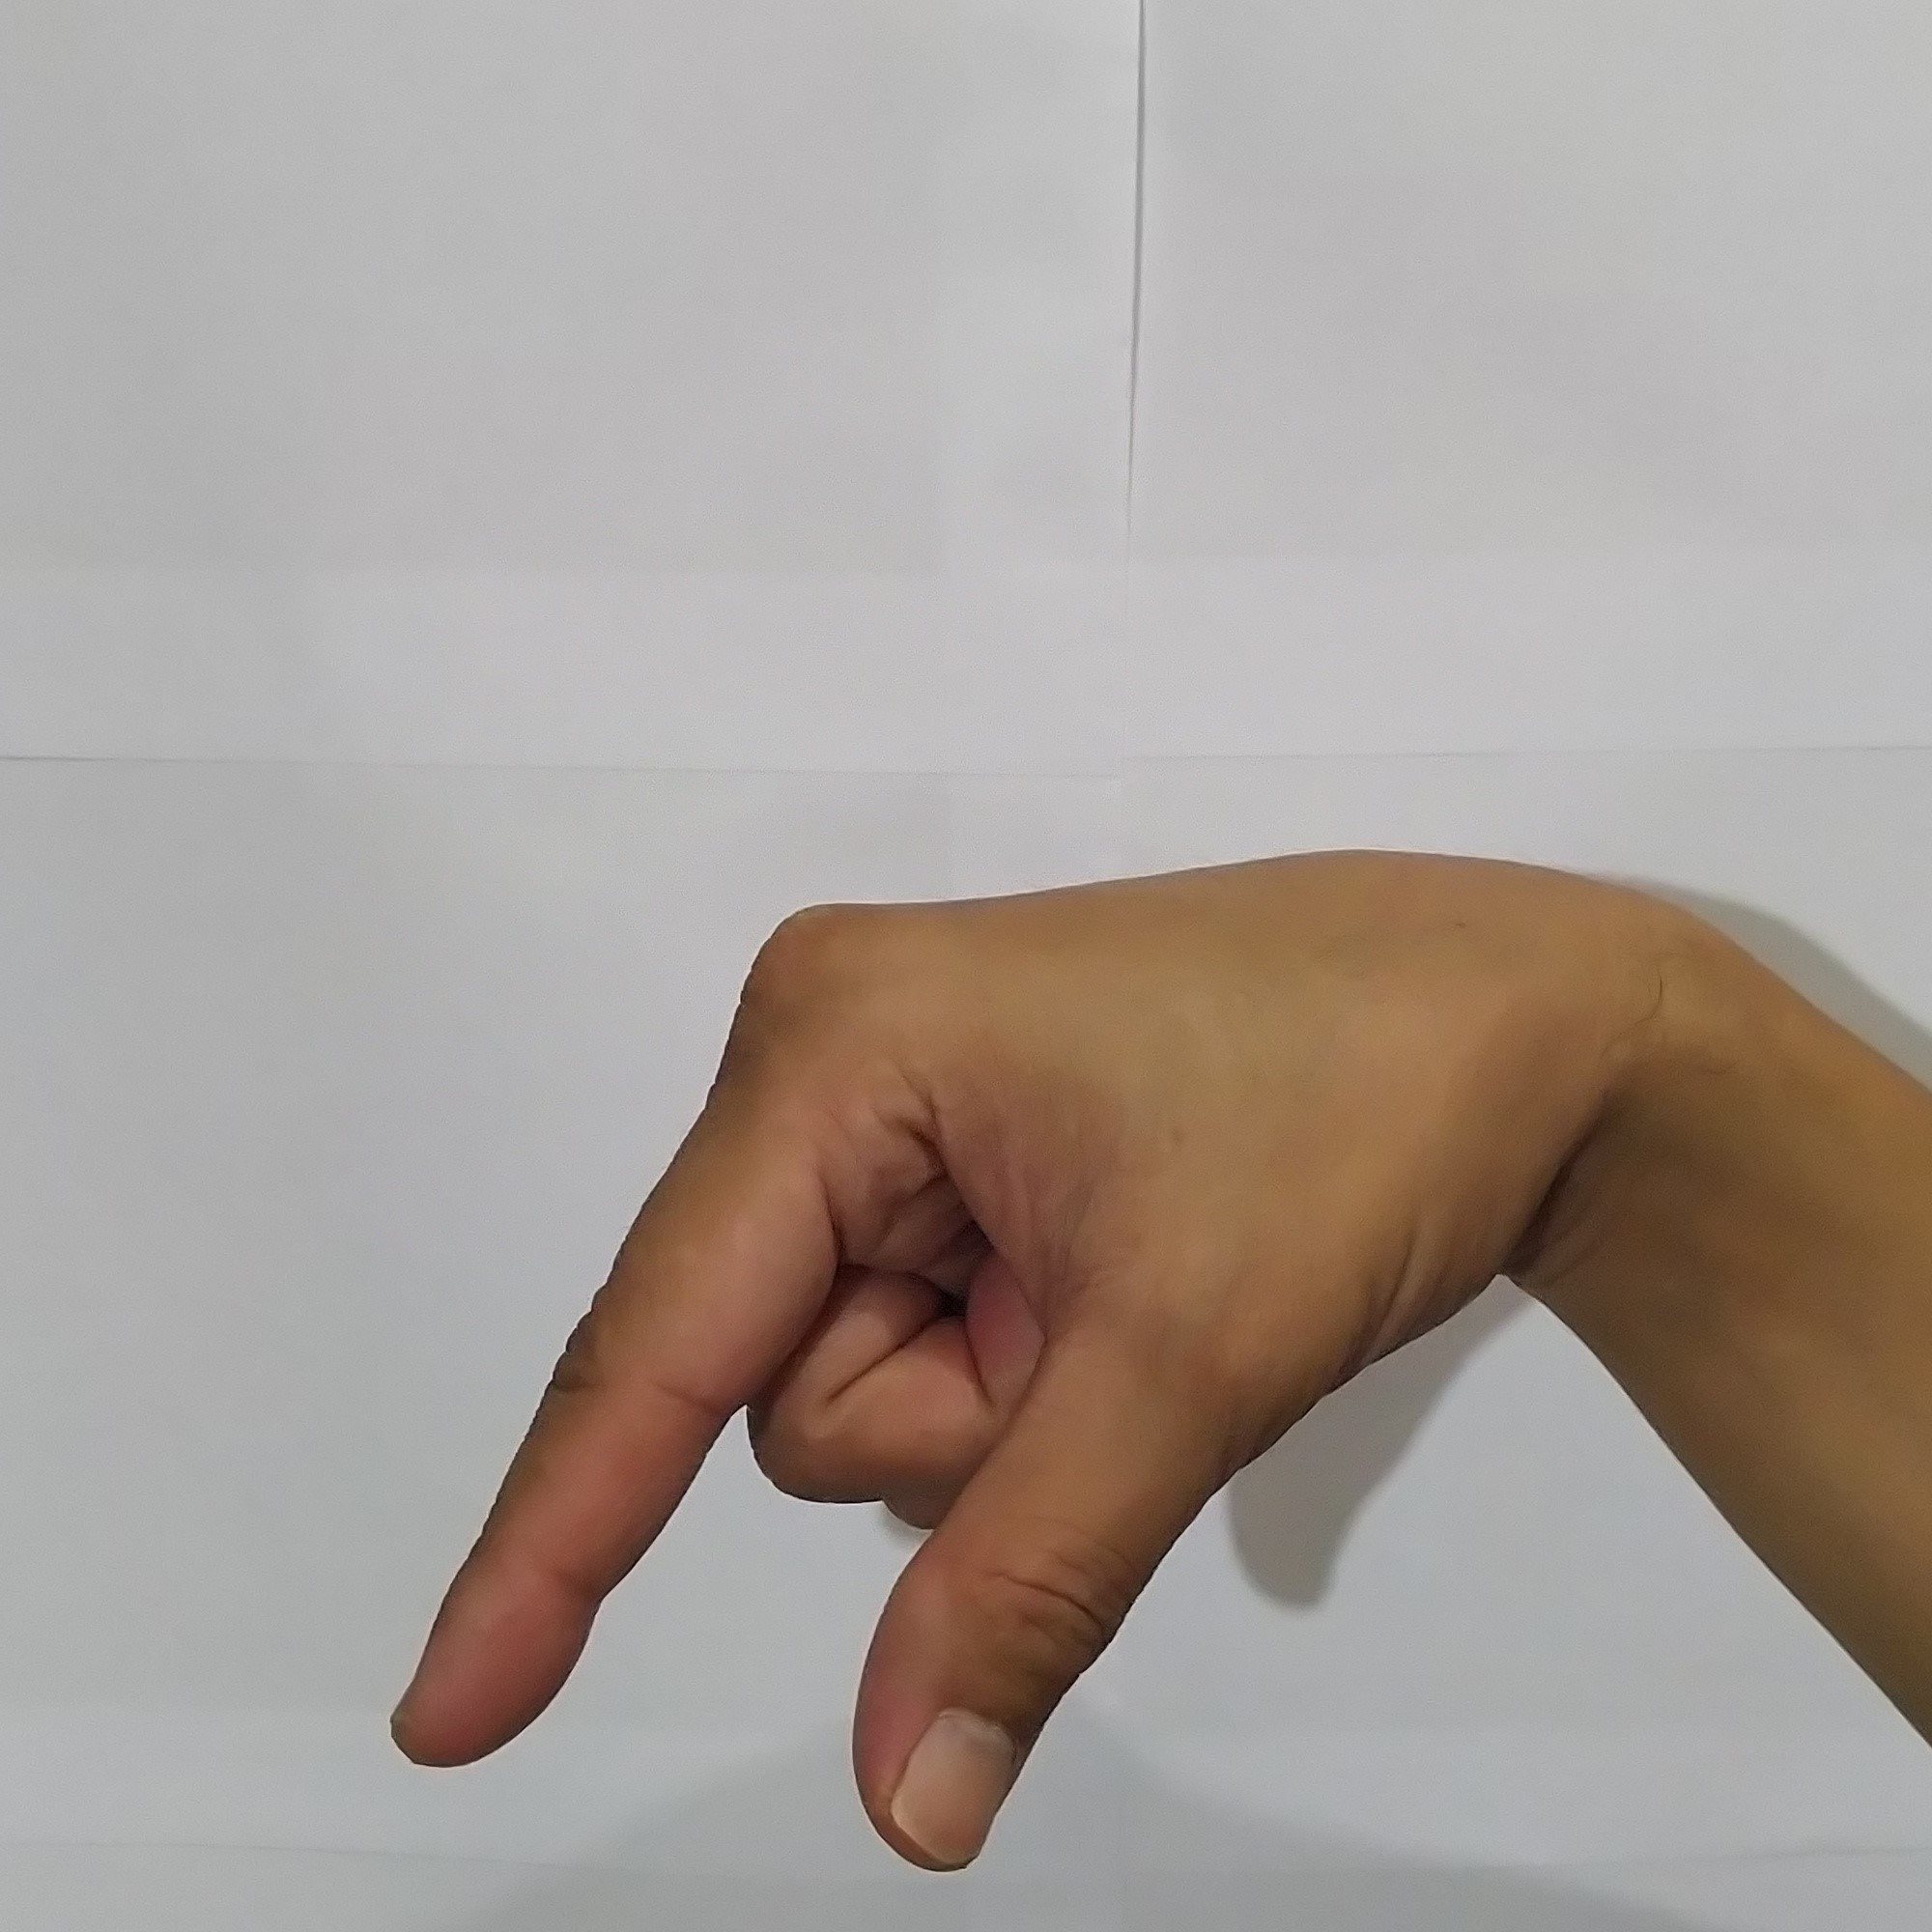Q: (363, 833, 1591, 1893)
